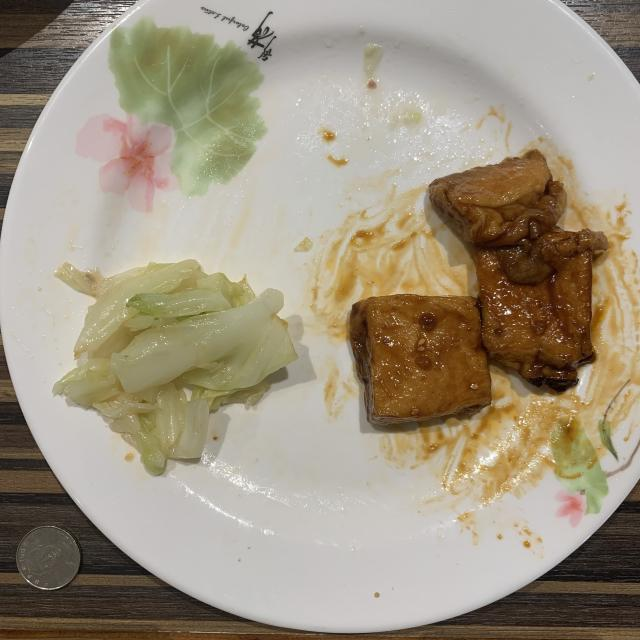cabbage: (54, 259, 298, 474)
coin: (16, 526, 81, 590)
creamy tofu: (350, 150, 609, 424)
